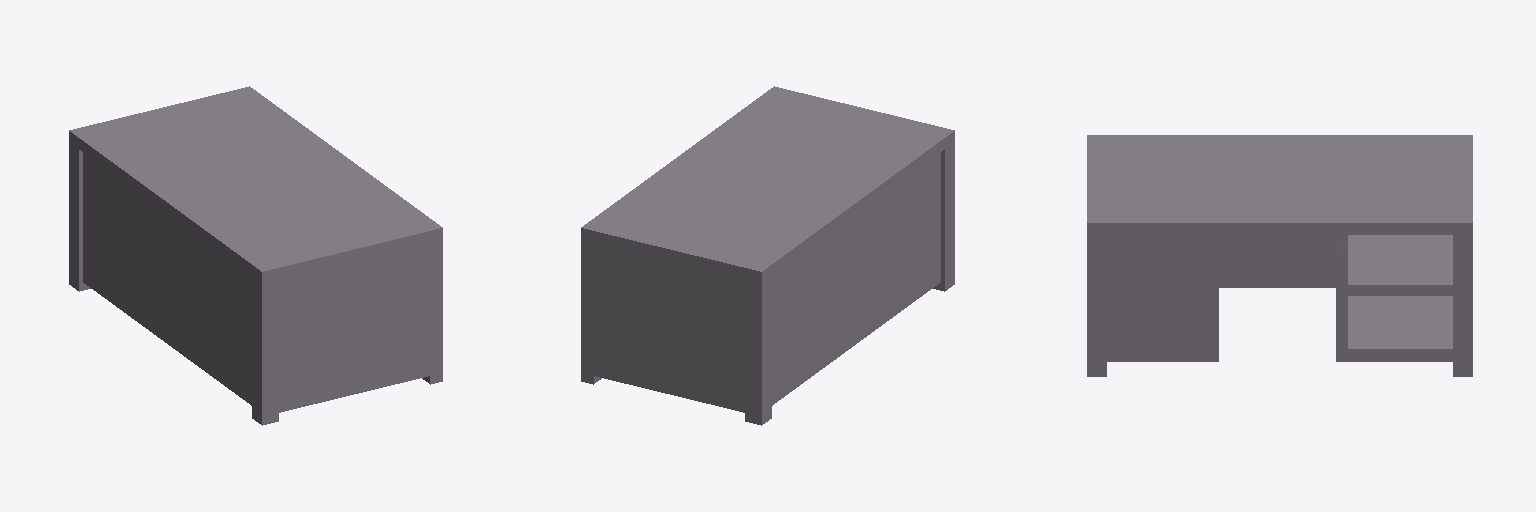
The model's file is oldDesk.obj.
3 renders of one model, left to right at view 1: azimuth 30°, elevation 25°; view 2: azimuth 150°, elevation 25°; view 3: azimuth 270°, elevation 25°, orthographic.
Visible parts, largest first — view 1: desk80s_Cube.005; view 2: desk80s_Cube.005; view 3: desk80s_Cube.005.
Part boxes in pixels (left/top/right/bottom): desk80s_Cube.005: left=69, top=86, right=442, bottom=425; desk80s_Cube.005: left=581, top=86, right=954, bottom=425; desk80s_Cube.005: left=1087, top=135, right=1472, bottom=376.
Bounding box in the file's own units: 0.932 × 0.7563 × 1.72.